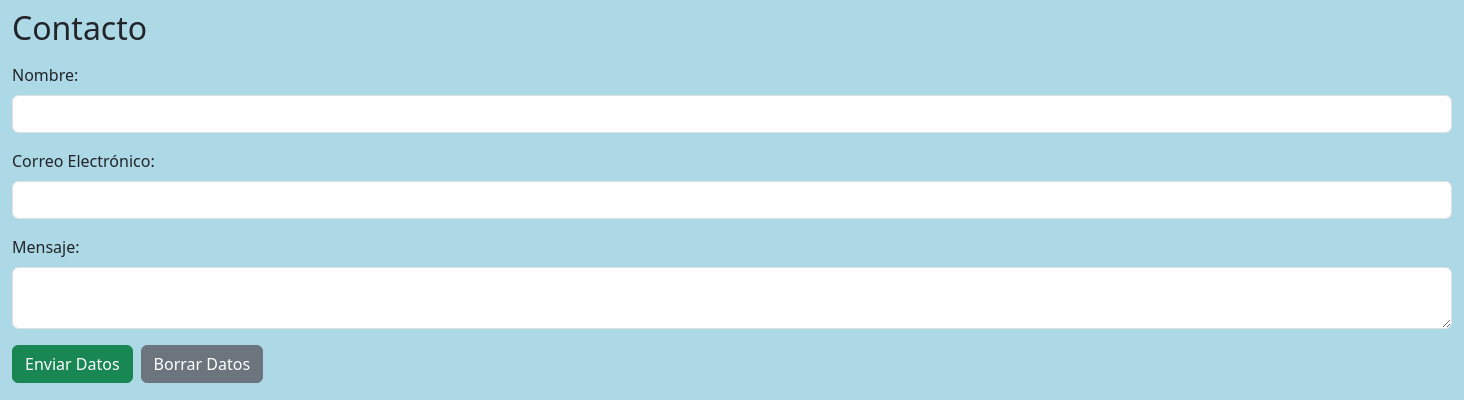
Test: Contacto Component › limpia los datos del formulario al hacer clic en el botón de borrado
The width and height of the screenshot is (1464, 400).
In the field labelled "Nombre:": [732, 114] box 12,95 -> 1452,133, type "Test Name"
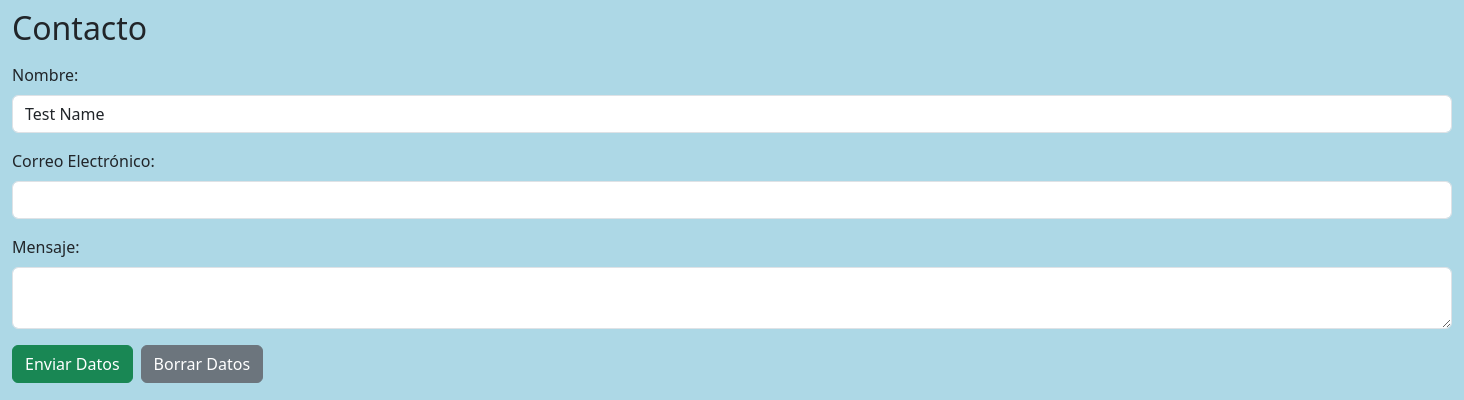
In the field labelled "Correo Electrónico:": [732, 200] box 12,181 -> 1452,219, type "test@example.com"
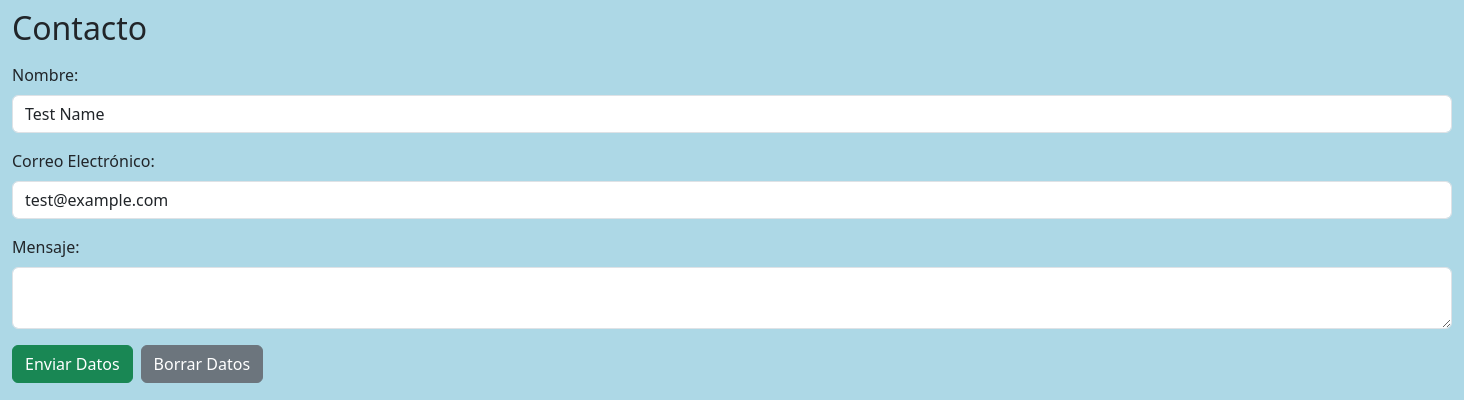
In the text box labelled "Mensaje:": [732, 298] box 12,267 -> 1452,329, type "Test Message"
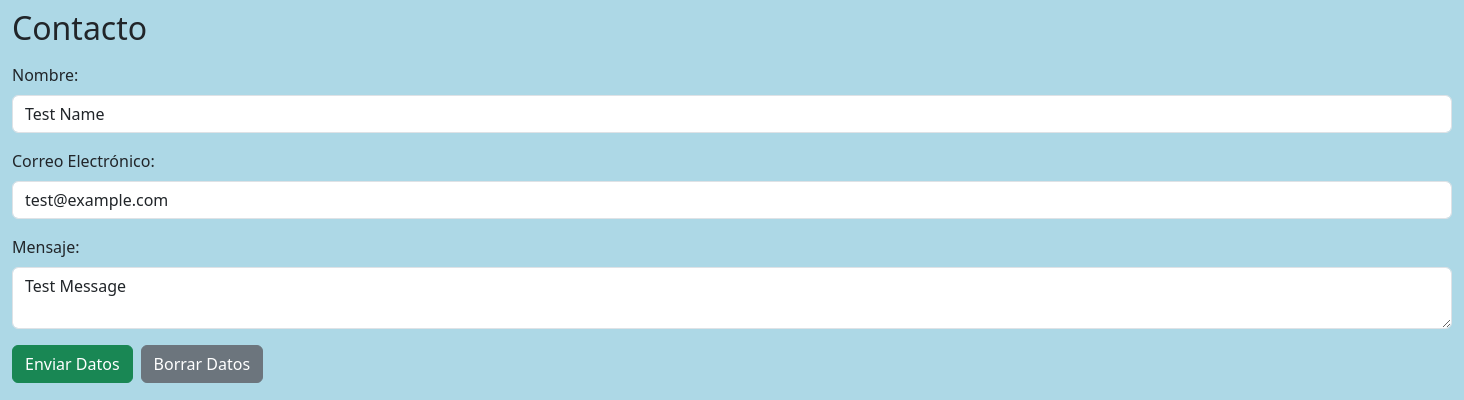
Hacer clic en el botón de borrado
Click the button "Borrar Datos": [202, 364] box 141,345 -> 263,383
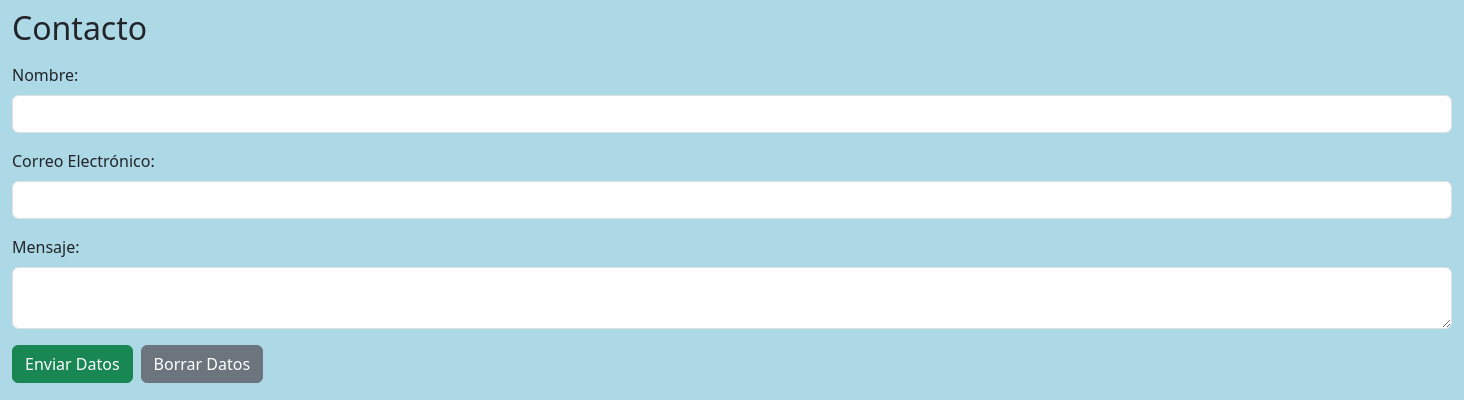
Expected: the field labelled "Nombre:" is empty, 12,95 -> 1452,133
Expected: the field labelled "Correo Electrónico:" is empty, 12,181 -> 1452,219
Expected: the text box labelled "Mensaje:" is empty, 12,267 -> 1452,329
